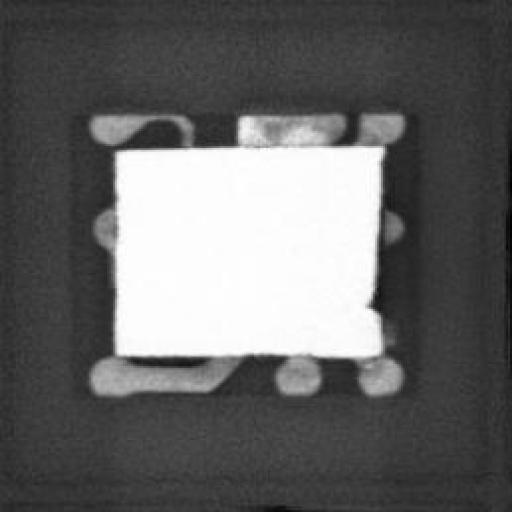DIE_BROKEN: (361, 203, 383, 318)
